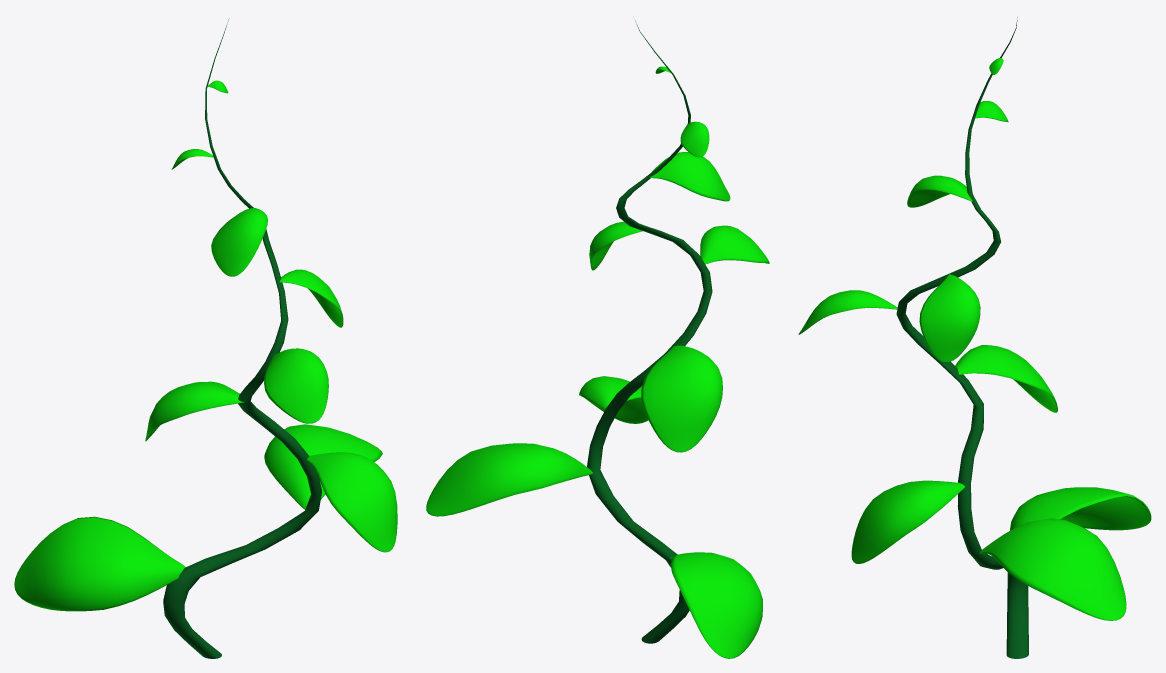
File: Plant 1 stage 1.fbx
3 renders of one model, left to right at view 1: azimuth 30°, elevation 25°; view 2: azimuth 150°, elevation 25°; view 3: azimuth 270°, elevation 25°, orthographic. The views are drawn at different scales.
Parts seen in each view (by area): view 1: pasted__pasted__pasted__pSphere1 (×2), pasted__pasted__pSphere1 (×2), pCone2, pasted__pasted__pasted__pasted__pSphere1, pSphere1, pasted__pSphere1; view 2: pasted__pasted__pasted__pSphere1 (×2), pasted__pasted__pasted__pasted__pSphere1, pCone2, pasted__pasted__pSphere1 (×2), pSphere1, pasted__pSphere1 (×2); view 3: pasted__pasted__pasted__pasted__pSphere1, pasted__pasted__pasted__pSphere1 (×2), pCone2, pasted__pasted__pSphere1 (×2), pasted__pSphere1, pSphere1.
Boxes of the visible parts, bbox=[...] form: pasted__pasted__pasted__pSphere1 (×2): bbox=[14, 381, 244, 611]; pasted__pasted__pSphere1 (×2): bbox=[264, 348, 397, 552]; pCone2: bbox=[163, 18, 322, 658]; pasted__pasted__pasted__pasted__pSphere1: bbox=[264, 424, 382, 509]; pSphere1: bbox=[211, 208, 267, 276]; pasted__pSphere1: bbox=[279, 269, 343, 327]; pasted__pasted__pasted__pSphere1 (×2): bbox=[641, 345, 762, 658]; pasted__pasted__pasted__pasted__pSphere1: bbox=[426, 443, 592, 516]; pCone2: bbox=[587, 20, 712, 643]; pasted__pasted__pSphere1 (×2): bbox=[579, 225, 769, 423]; pSphere1: bbox=[650, 152, 730, 201]; pasted__pSphere1 (×2): bbox=[589, 121, 709, 270]; pasted__pasted__pasted__pasted__pSphere1: bbox=[979, 518, 1126, 620]; pasted__pasted__pasted__pSphere1 (×2): bbox=[955, 345, 1151, 530]; pCone2: bbox=[896, 17, 1028, 658]; pasted__pasted__pSphere1 (×2): bbox=[798, 290, 964, 563]; pasted__pSphere1: bbox=[919, 274, 980, 362]; pSphere1: bbox=[907, 175, 976, 207].
Bounding box in the file's own units: 8.68 × 16 × 7.87.
